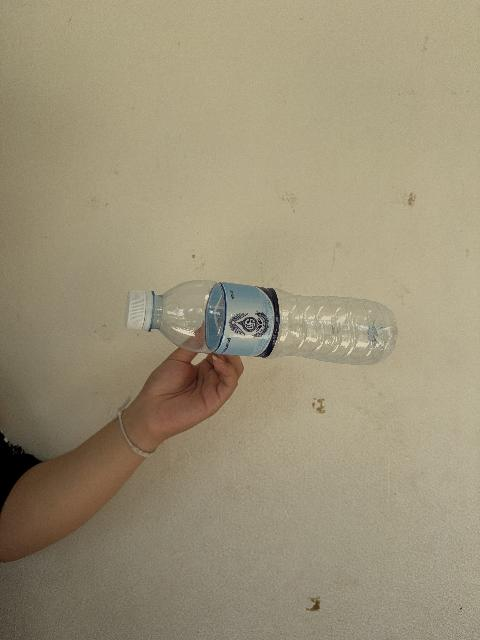bottle: (124, 280, 396, 364)
